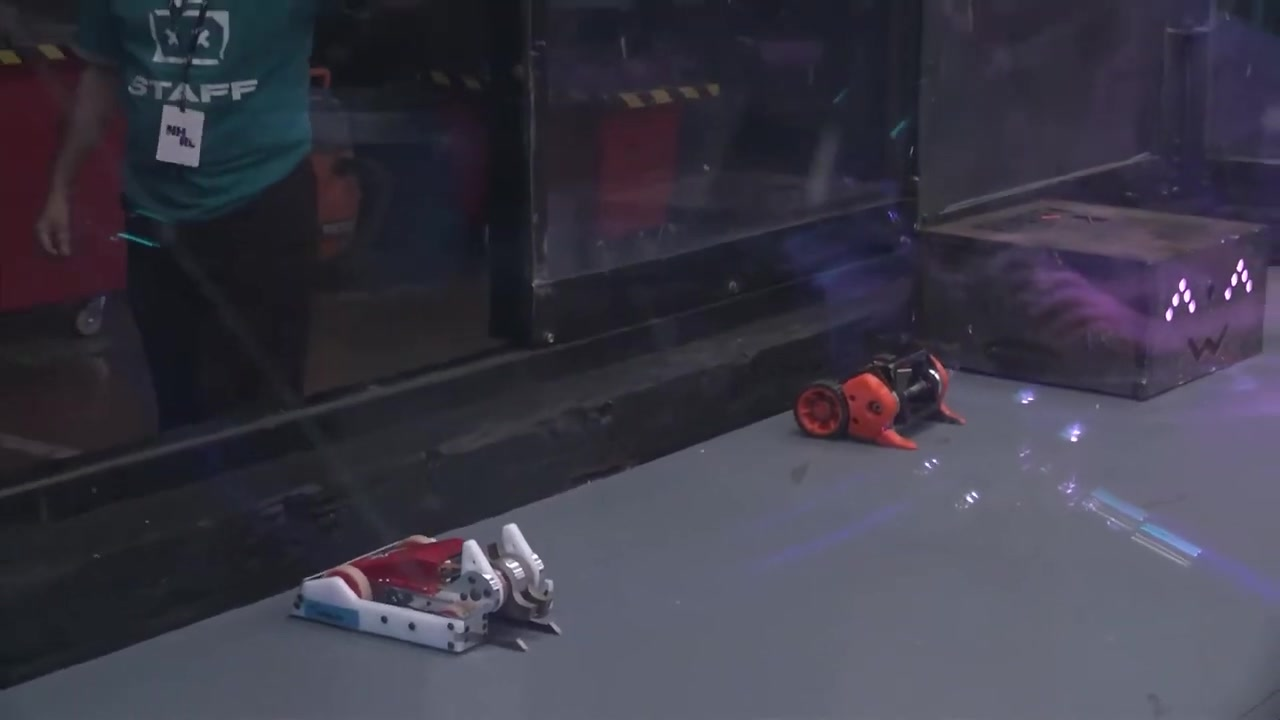combatbot: (284, 517, 569, 656), (793, 348, 966, 453)
housebot: (916, 194, 1267, 402)
